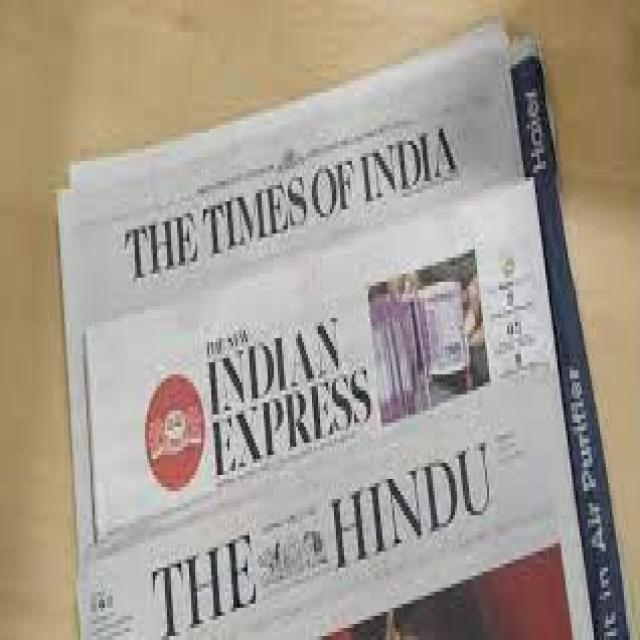newspaper: (59, 36, 620, 640)
